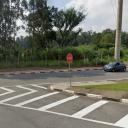Pare: (66, 54, 72, 63)
